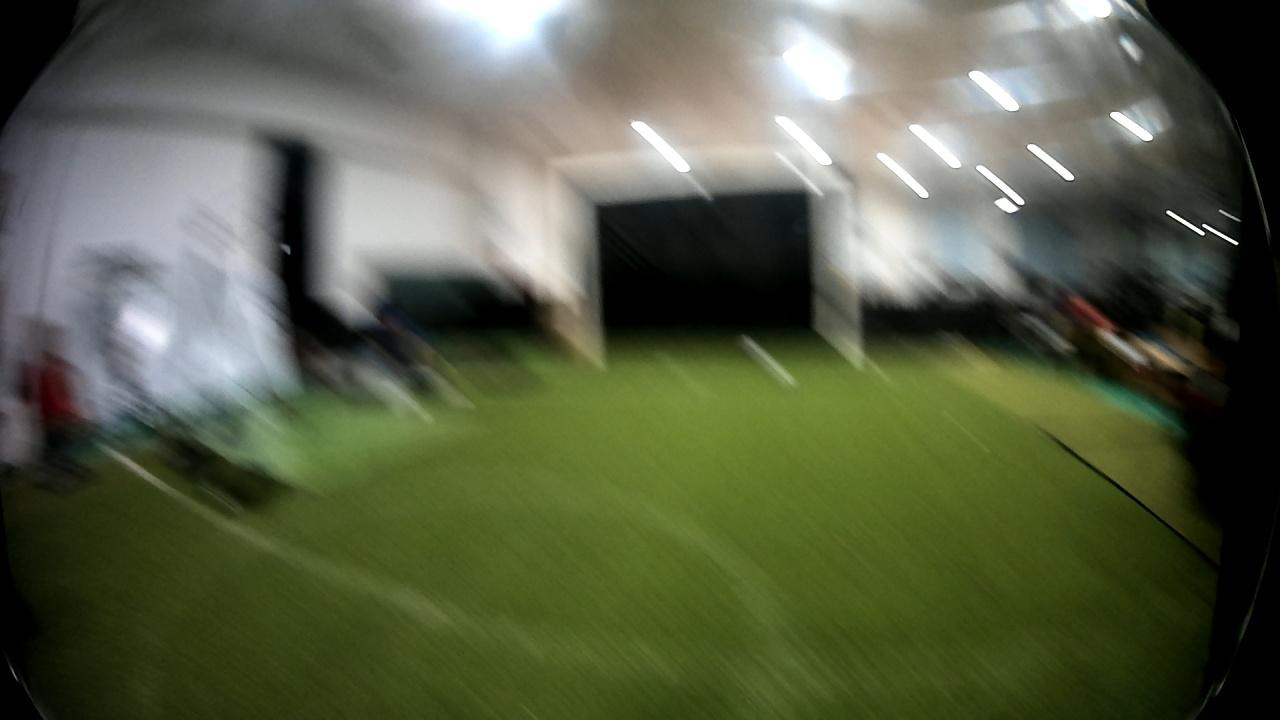ball: (736, 329, 801, 398)
